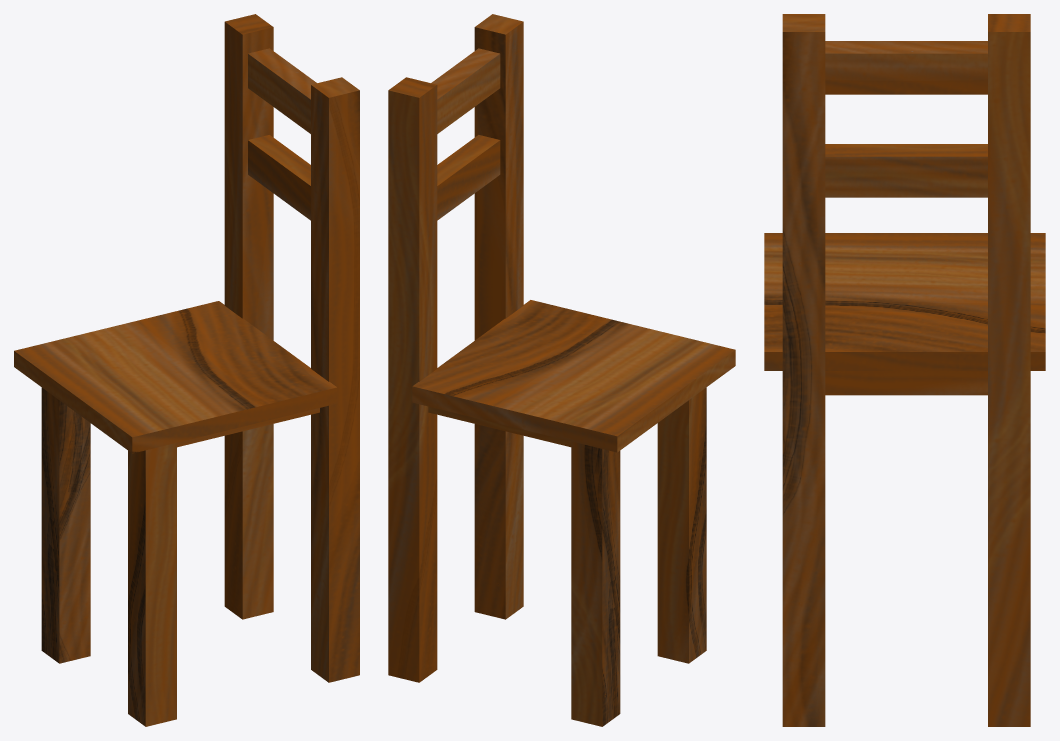
File: Chair.glb
3 renders of one model, left to right at view 1: azimuth 30°, elevation 25°; view 2: azimuth 150°, elevation 25°; view 3: azimuth 270°, elevation 25°, orthographic. The views are drawn at different scales.
Visible parts, largest first — view 1: Chair; view 2: Chair; view 3: Chair.
Part boxes in pixels (x1,y1,x2,y2): Chair: [14, 14, 359, 726]; Chair: [388, 14, 735, 726]; Chair: [764, 14, 1045, 726].
Bounding box in the file's own units: 1.52 × 3.6 × 1.32.
Materials: 1 (1 with a texture image).
